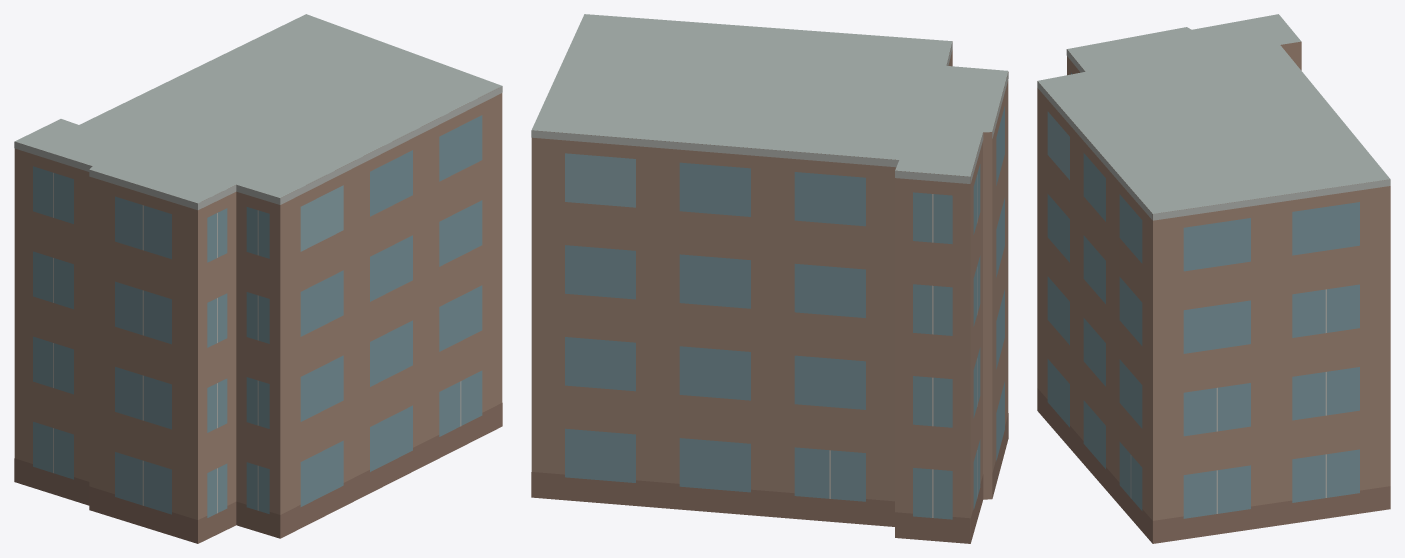
Rendered from survey-upis-32842396.glb.
3 renders of one model, left to right at view 1: azimuth 30°, elevation 25°; view 2: azimuth 150°, elevation 25°; view 3: azimuth 270°, elevation 25°, orthographic. The views are drawn at different scales.
Parts seen in each view (by area): view 1: survey-upis-32842396.tmp; view 2: survey-upis-32842396.tmp; view 3: survey-upis-32842396.tmp.
Part boxes in pixels (left/top/right/bottom): survey-upis-32842396.tmp: left=14, top=14, right=502, bottom=543; survey-upis-32842396.tmp: left=531, top=14, right=1008, bottom=543; survey-upis-32842396.tmp: left=1037, top=14, right=1390, bottom=543.
Bounding box in the file's own units: 15.61 × 12 × 11.65.
